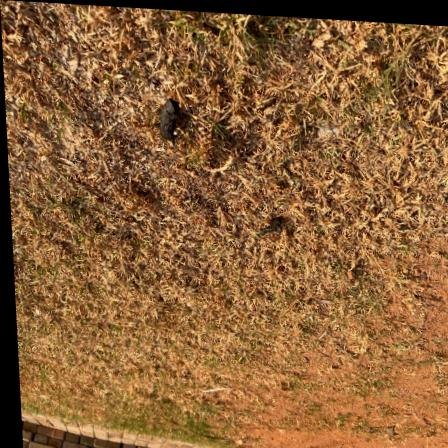dog-poop: (152, 91, 180, 153), (253, 207, 286, 243)
